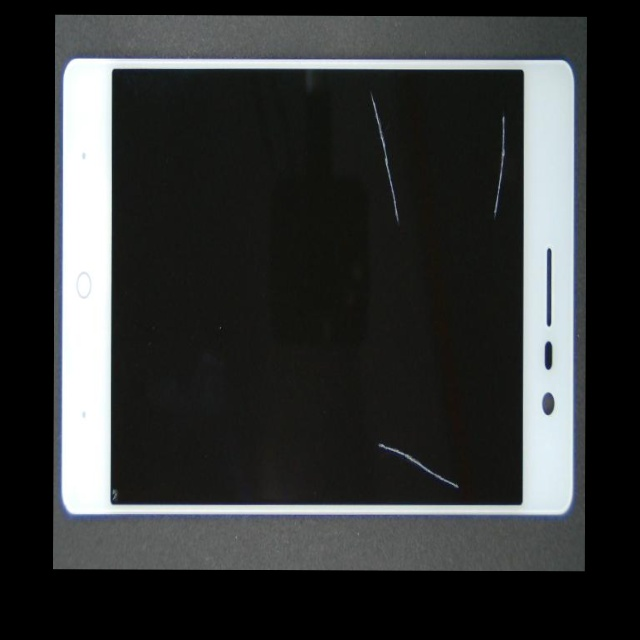scratch: (195, 15, 535, 193)
